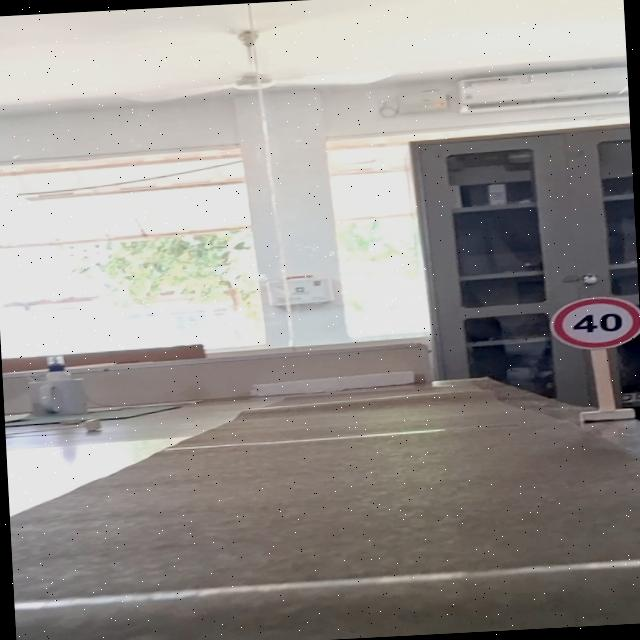Speed40: (542, 292, 640, 354)
